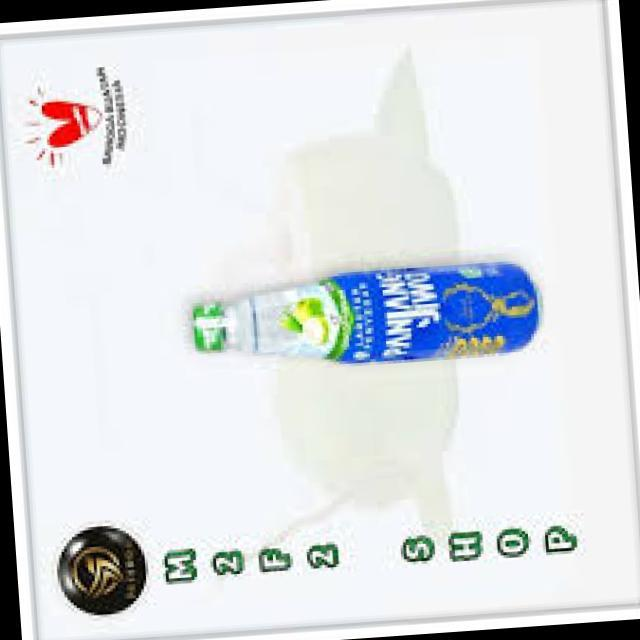good: (175, 250, 548, 372)
